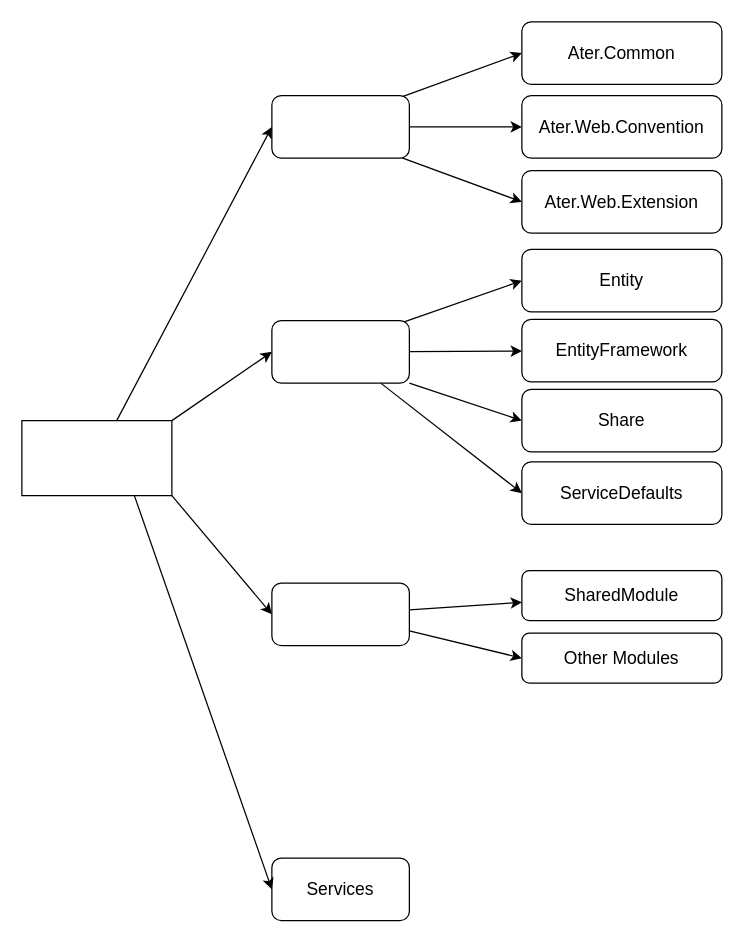
The diagram is 744 pixels wide and 943 high, and some of its shapes have lost their labels. Here are the shapes that lost their labels. From the top down, the centre of each, then its label:
At point (340, 126): "Framework".
At point (340, 351): "Definition".
At point (96, 457): "Project".
At point (340, 614): "Implement".
